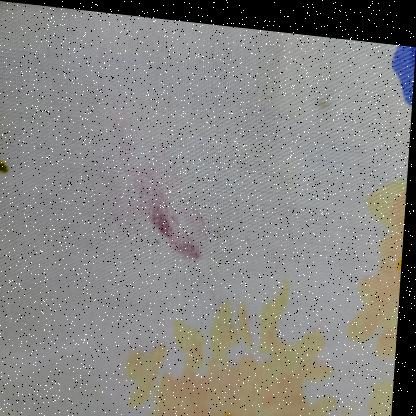spot: (121, 127, 223, 270), (303, 170, 328, 192), (318, 83, 332, 108), (67, 411, 95, 416)
